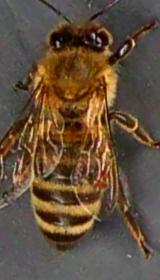varroa_mite: (94, 162, 110, 196)
